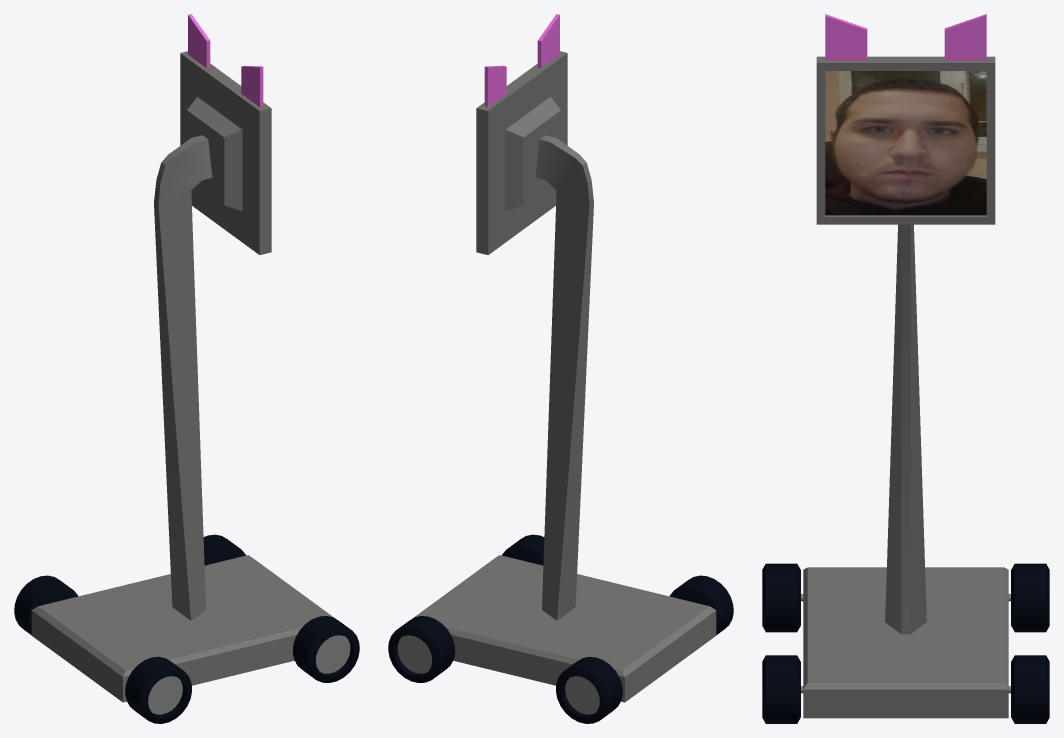
The model's file is robert.fbx.
The picture shows the model from 3 angles, left to right: view 1: azimuth 30°, elevation 25°; view 2: azimuth 150°, elevation 25°; view 3: azimuth 270°, elevation 25°; orthographic projection. The views are drawn at different scales.
Visible parts, largest first — view 1: robert, rwheel, rwheel.003, rwheel.002, rwheel.001, ear, ear.001; view 2: robert, rwheel.001, rwheel.002, rwheel.003, rwheel, ear.001, ear; view 3: robert, rwheel.003, rwheel.002, rwheel, rwheel.001, ear, ear.001.
Part boxes in pixels (left/top/right/bottom): robert: left=31, top=51, right=333, bottom=702; rwheel: left=292, top=616, right=359, bottom=682; rwheel.003: left=125, top=656, right=191, bottom=723; rwheel.002: left=14, top=575, right=78, bottom=634; rwheel.001: left=203, top=534, right=245, bottom=565; ear: left=188, top=14, right=210, bottom=68; ear.001: left=241, top=65, right=263, bottom=107; robert: left=414, top=51, right=716, bottom=702; rwheel.001: left=388, top=616, right=455, bottom=682; rwheel.002: left=556, top=656, right=622, bottom=723; rwheel.003: left=669, top=575, right=733, bottom=634; rwheel: left=502, top=534, right=544, bottom=565; ear.001: left=537, top=14, right=559, bottom=68; ear: left=484, top=65, right=506, bottom=107; robert: left=801, top=56, right=1010, bottom=718; rwheel.003: left=762, top=563, right=800, bottom=632; rwheel.002: left=1011, top=563, right=1049, bottom=632; rwheel: left=762, top=655, right=800, bottom=723; rwheel.001: left=1011, top=655, right=1049, bottom=723; ear: left=944, top=14, right=986, bottom=60; ear.001: left=825, top=14, right=867, bottom=60.
Size of the model in its own units: 65.05 by 65.44 by 171.
